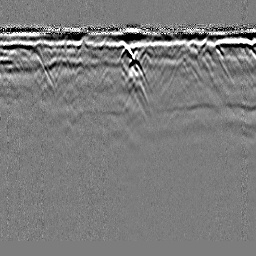cavity: (119, 42, 135, 59)
